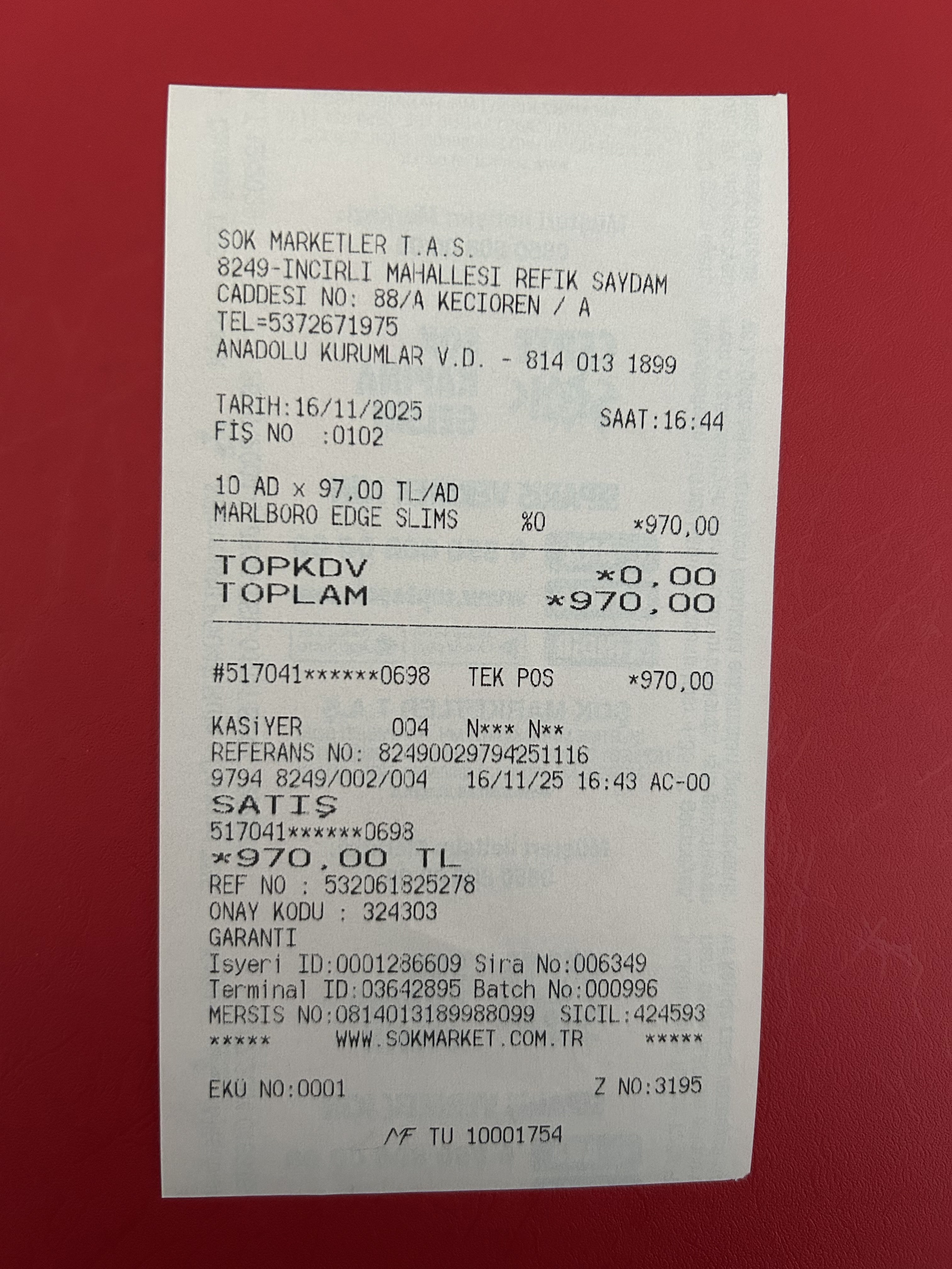date: (289, 389, 431, 423)
price: (559, 585, 724, 626)
workplace: (204, 217, 721, 321)
